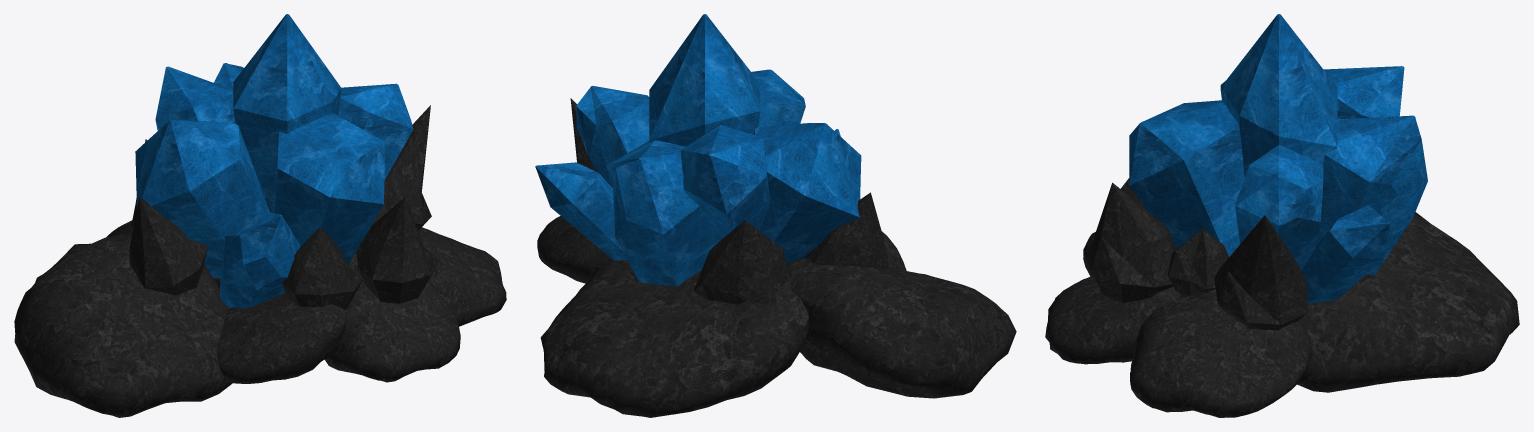
File: mine_Medium.glb
3 views of the same model, side by side, from view 1: azimuth 30°, elevation 25°; view 2: azimuth 150°, elevation 25°; view 3: azimuth 270°, elevation 25° (orthographic). The views are drawn at different scales.
Parts seen in each view (by area): view 1: Crystal Medium; view 2: Crystal Medium; view 3: Crystal Medium.
Boxes of the visible parts, bbox=[...] form: Crystal Medium: bbox=[14, 14, 506, 417]; Crystal Medium: bbox=[535, 14, 1016, 417]; Crystal Medium: bbox=[1045, 14, 1519, 417].
Bounding box in the file's own units: 116 × 80.22 × 99.58.
2 materials, 2 textured.
